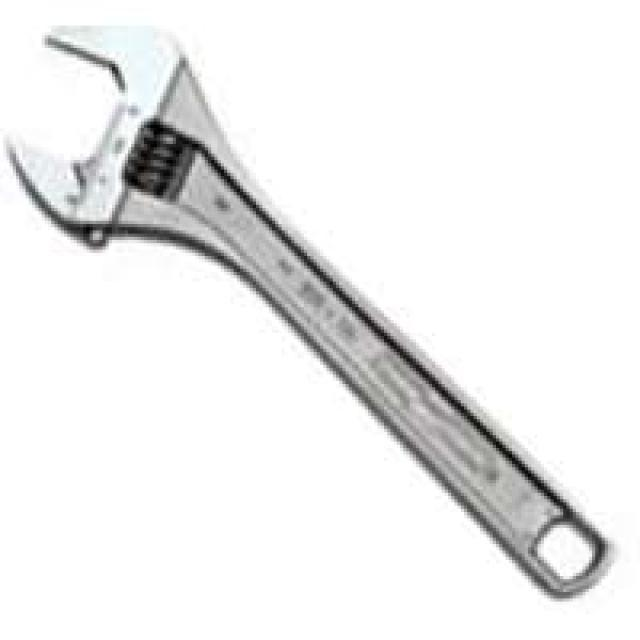wrench: (0, 17, 616, 606)
